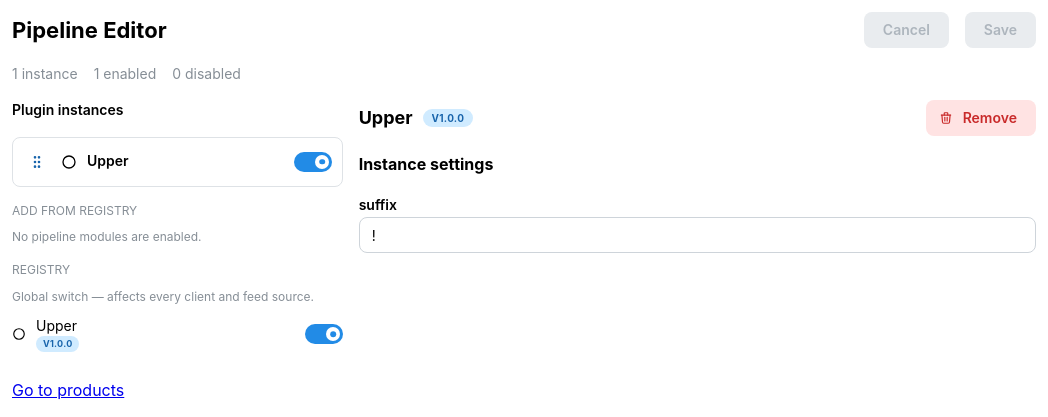
Test: PipelinePage › remove button deletes the instance locally and enables Save
Click the button "Remove" at (981, 118), box [926,100,1036,136]
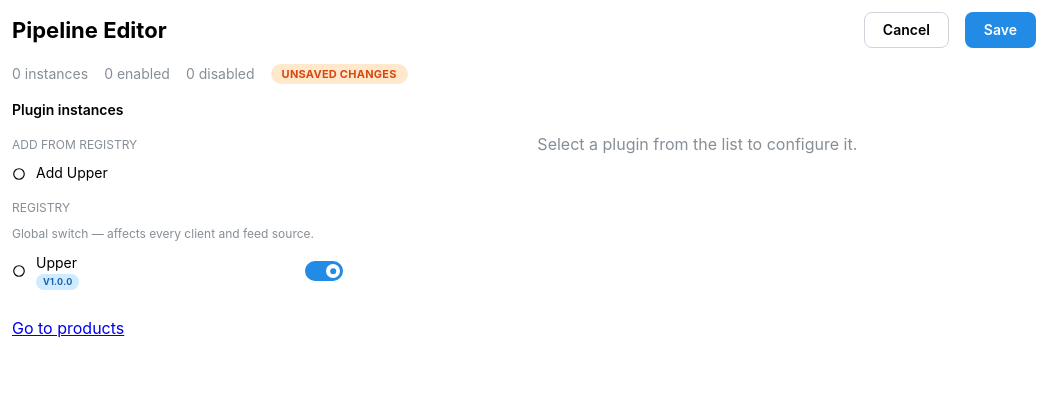
Expected: the element with test id "plugin-row-upper-0" is gone
Expected: the button "Save" is enabled, [965,12,1036,48]
